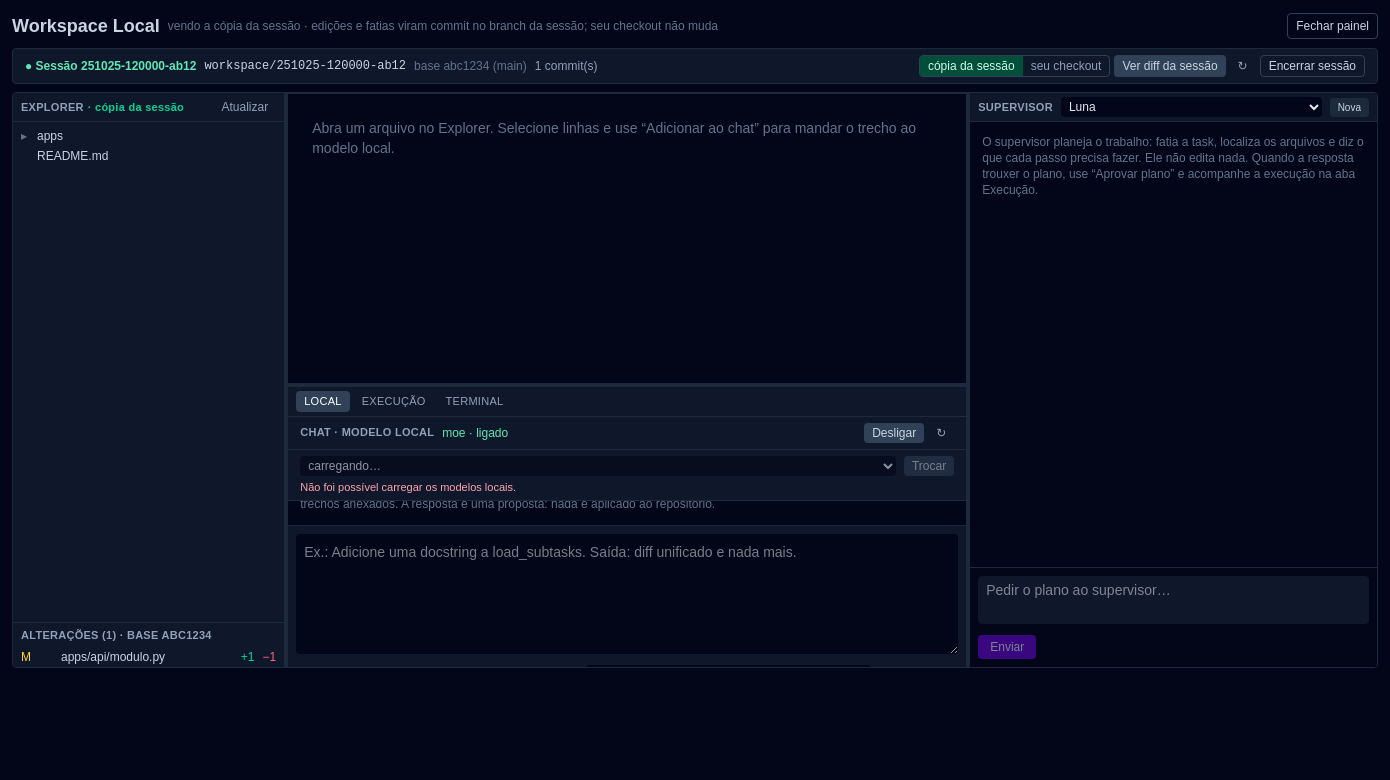
Workspace Local › arquivo com chave mascarada não pode ser editado
(page scrolled)
expect the text "vendo a cópia da sessão" is shown: met, box [168, 19, 718, 33]
Click the button "▸ apps".
click(24, 136)  # box [13, 126, 284, 146]
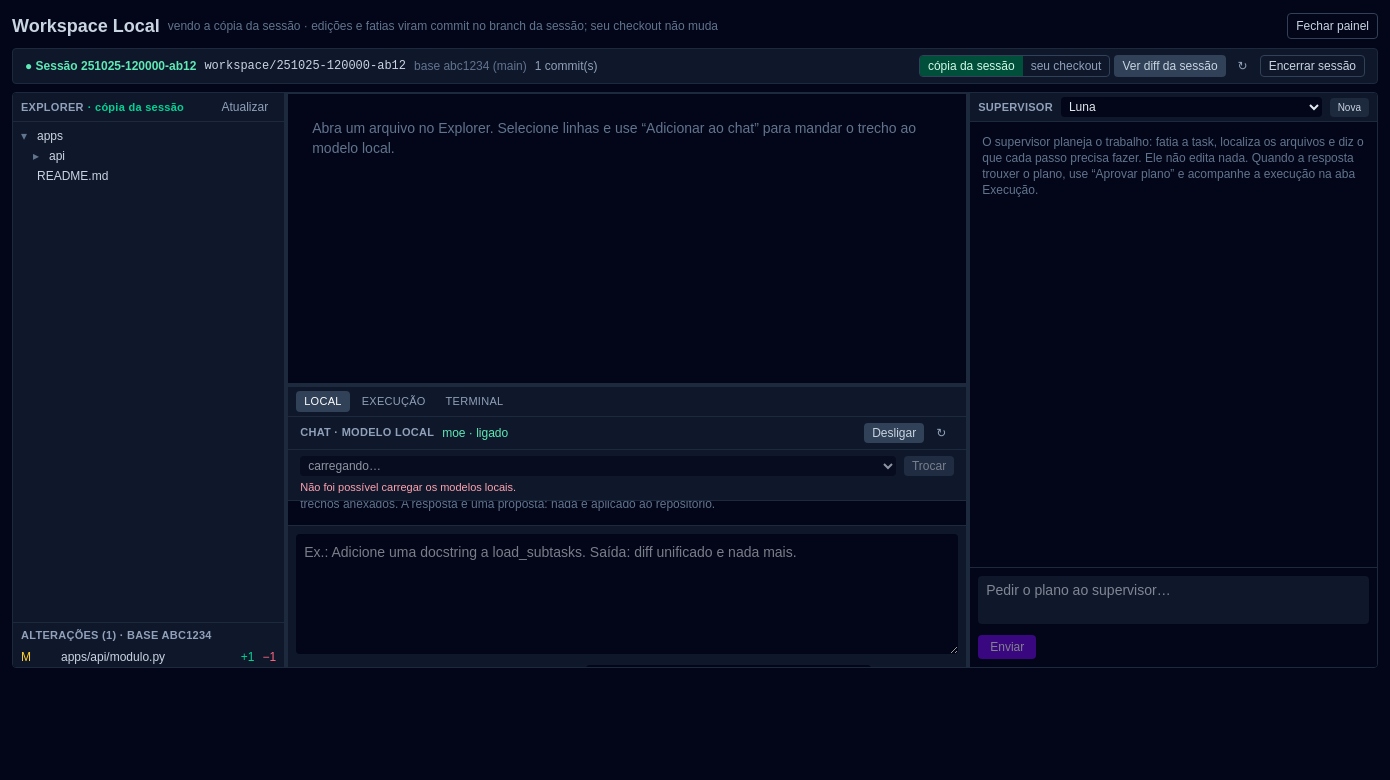
Click the button "▸ api".
click(36, 156)  # box [13, 146, 284, 166]
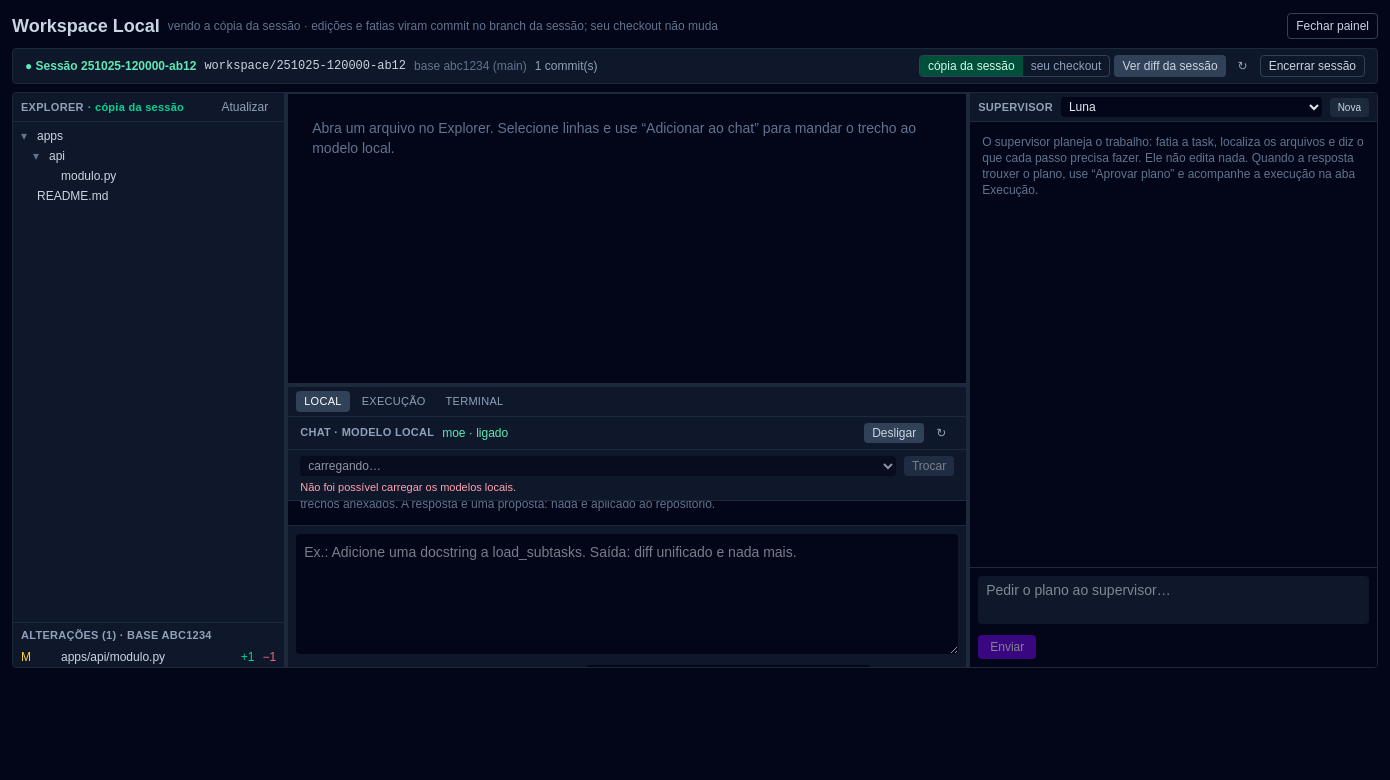
Click the button "modulo.py".
click(89, 176)  # box [13, 166, 284, 186]
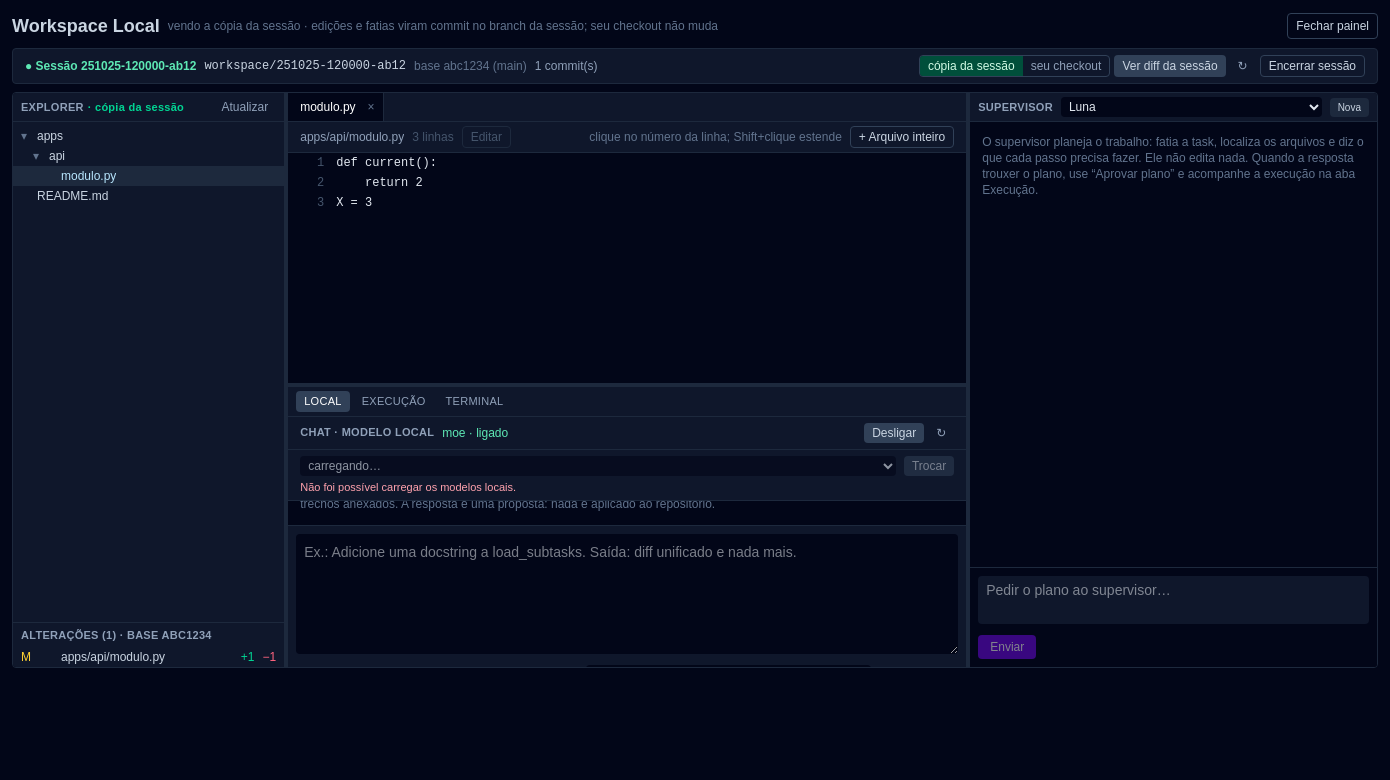
expect the button "Editar" is disabled: met, box [462, 126, 511, 148]
